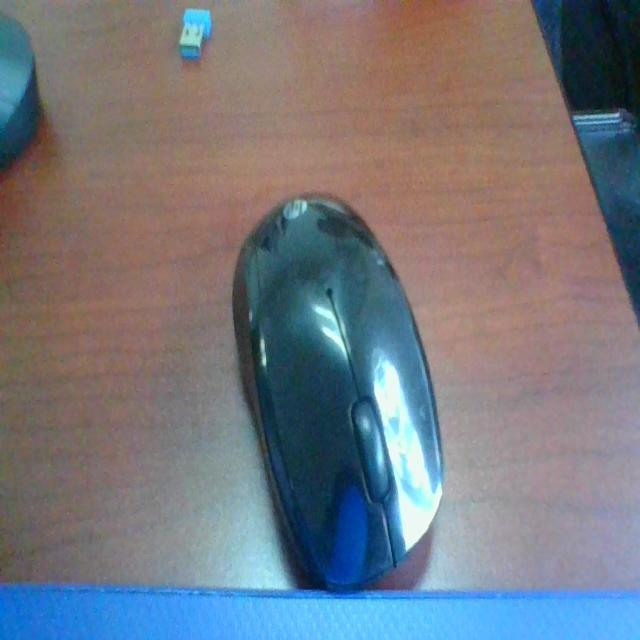Mouse: (208, 163, 461, 562)
